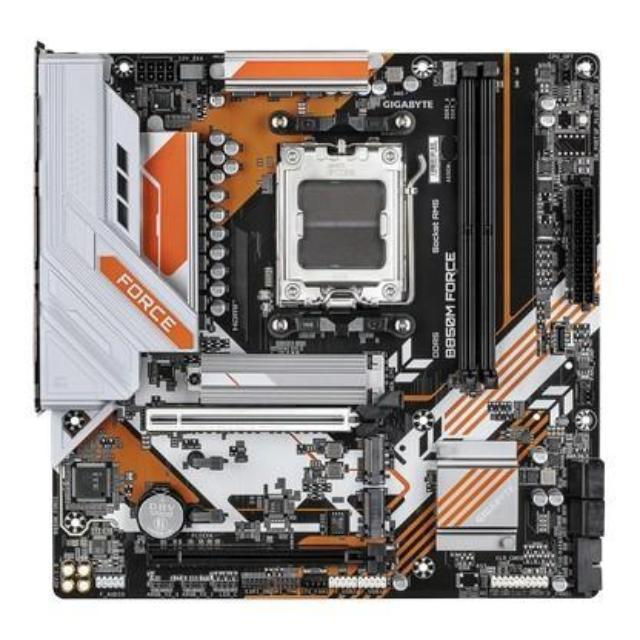Mainboard: (20, 32, 606, 608)
